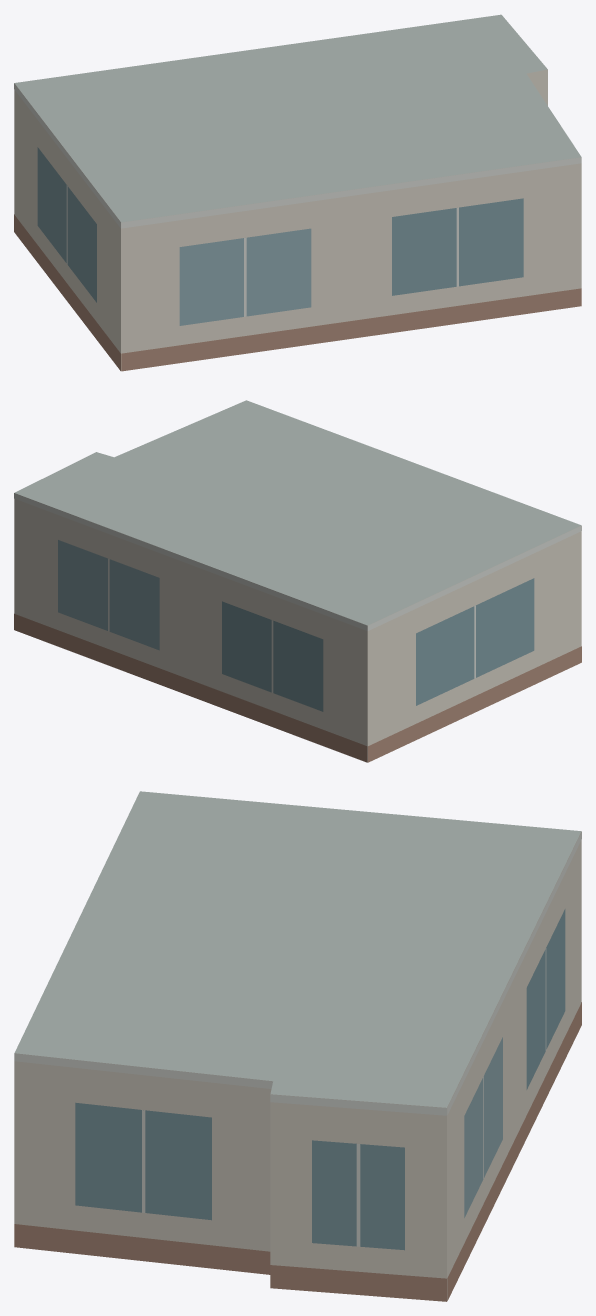
The model's file is survey-upis-32679487.glb.
The picture shows the model from 3 angles, top to bottom: view 1: azimuth 30°, elevation 25°; view 2: azimuth 150°, elevation 25°; view 3: azimuth 270°, elevation 25°; orthographic projection. The views are drawn at different scales.
Parts seen in each view (by area): view 1: survey-upis-32679487.tmp; view 2: survey-upis-32679487.tmp; view 3: survey-upis-32679487.tmp.
Part boxes in pixels (left/top/right/bottom): survey-upis-32679487.tmp: left=14, top=14, right=581, bottom=371; survey-upis-32679487.tmp: left=14, top=400, right=581, bottom=762; survey-upis-32679487.tmp: left=14, top=791, right=581, bottom=1301.
Bounding box in the file's own units: 10.7 × 3.05 × 8.1.
